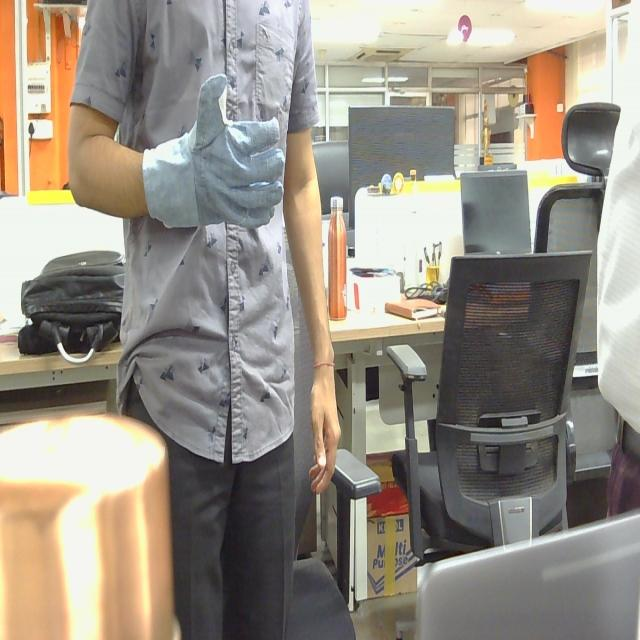Gloves-Detection: (141, 70, 284, 244)
